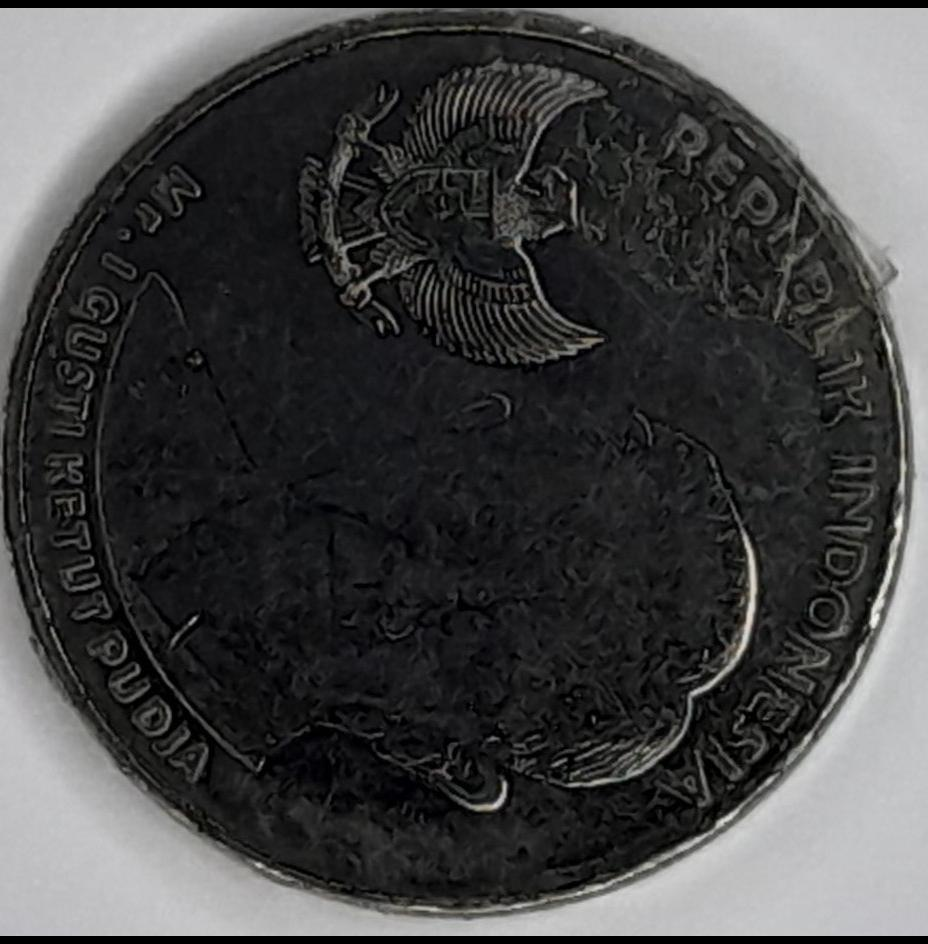coin_1000_e2016: (16, 19, 916, 944)
